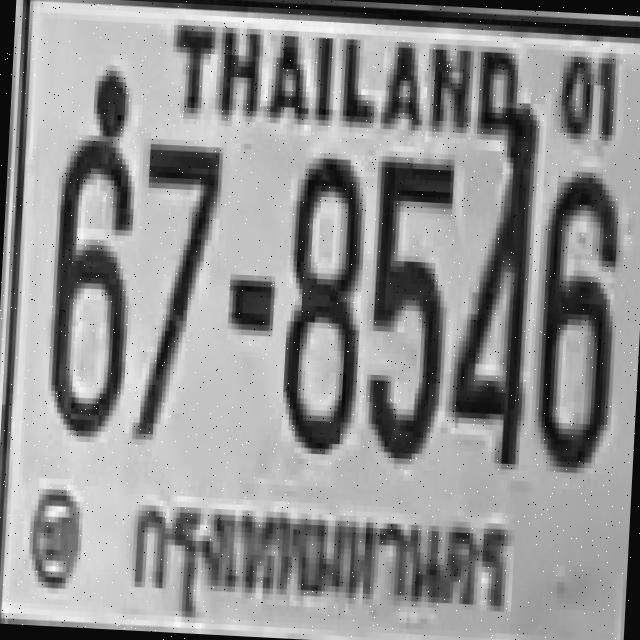4: (444, 138, 534, 464)
5: (364, 154, 452, 458)
6: (530, 164, 622, 470), (44, 128, 136, 433)
7: (130, 138, 222, 438), (137, 138, 220, 350)
8: (277, 152, 365, 450)
SaraBuri: (125, 476, 526, 640)
